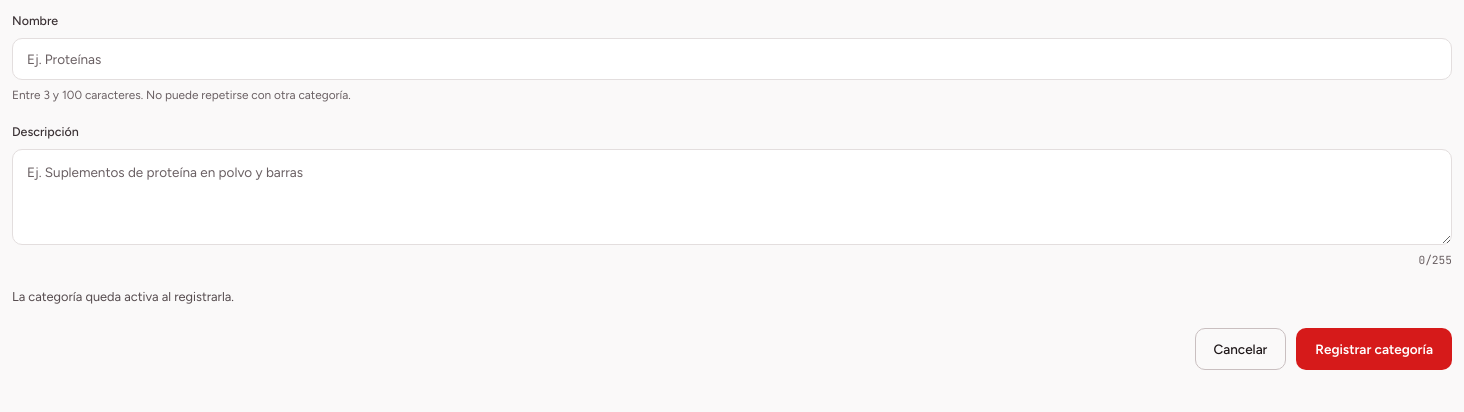
CreateCategoryForm › blocks a name that already exists, ignoring case and spaces
The width and height of the screenshot is (1464, 412).
In the field labelled "Nombre": [732, 59] box [12,38,1452,80], type " PROTEÍNAS "
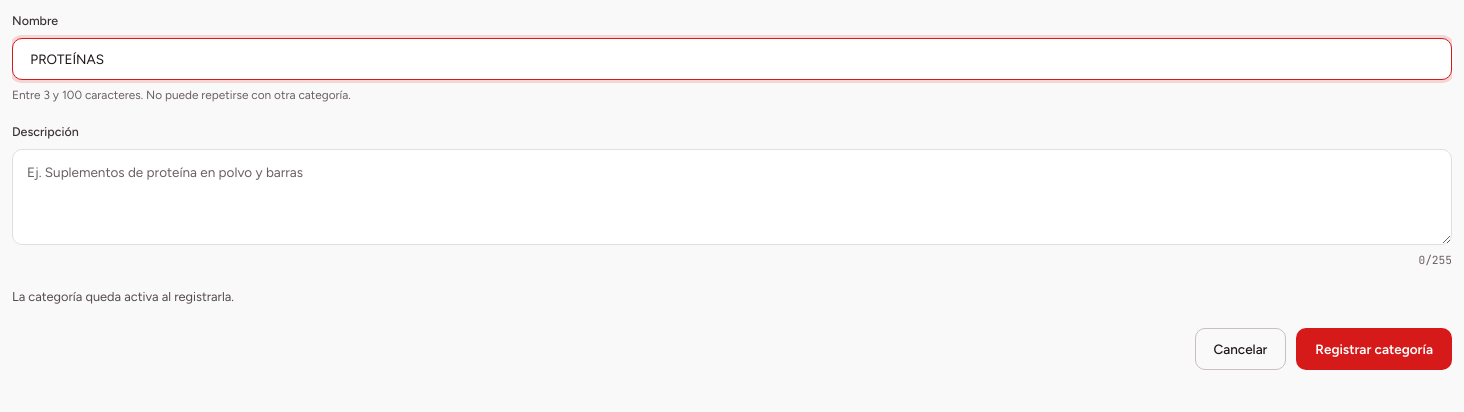
In the text box labelled "Descripción": [732, 197] box [12,149,1452,245], type "Otra descripción"
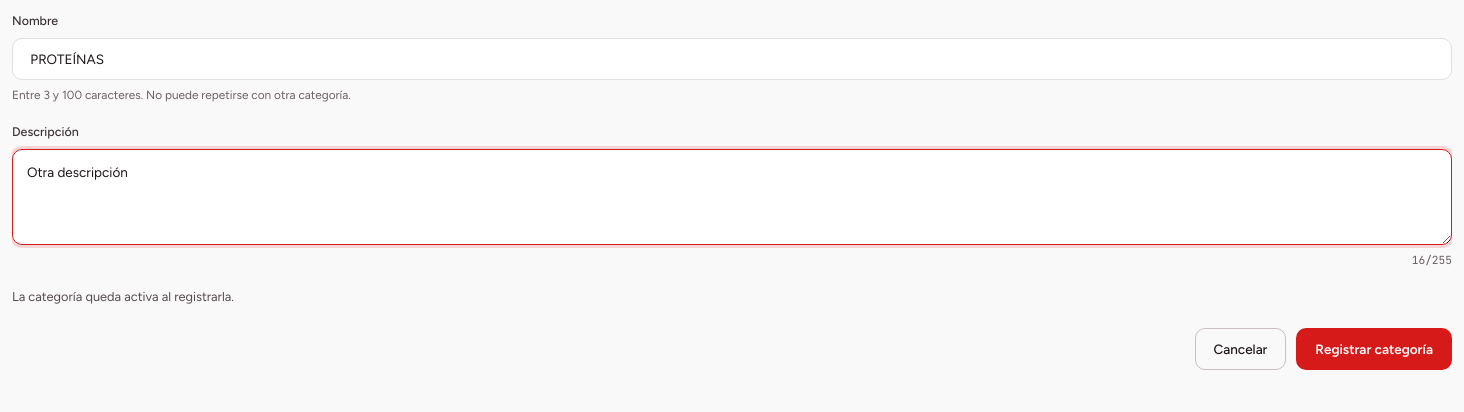
Click the button "Registrar categoría": [1374, 349] box [1296,328,1452,370]
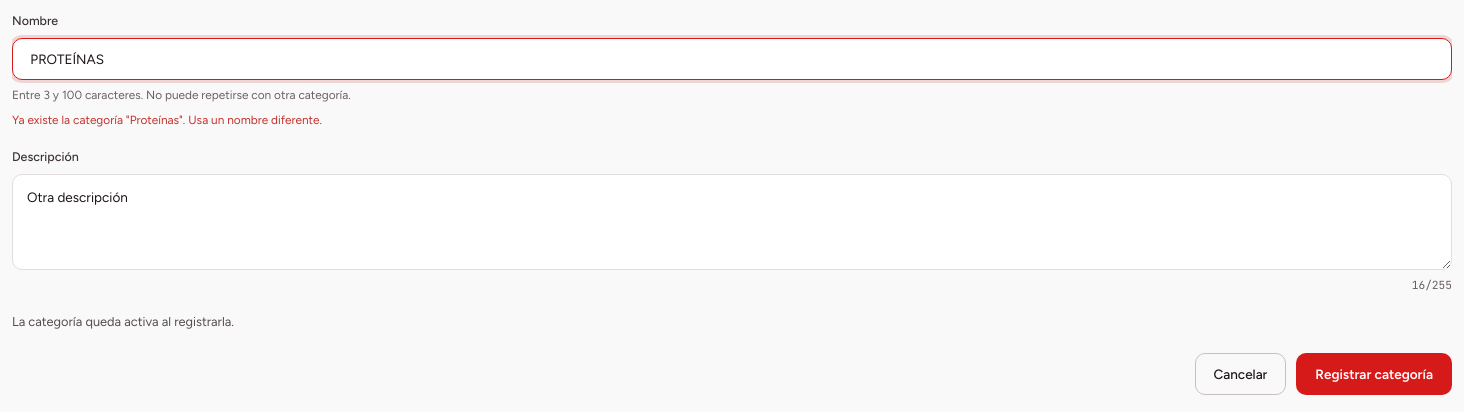
Expected: the text "Ya existe la categoría \"Proteínas\". Usa un nombre diferente." is shown, [12,113,322,127]
